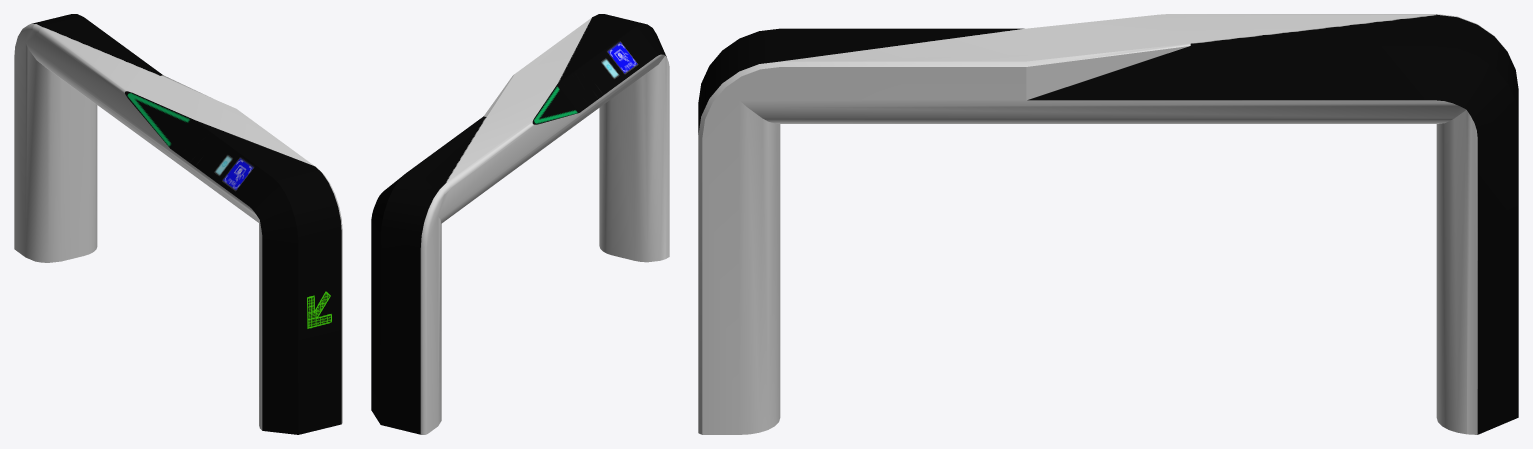
Rendered from 개찰구.fbx.
The picture shows the model from 3 angles, left to right: view 1: azimuth 30°, elevation 25°; view 2: azimuth 150°, elevation 25°; view 3: azimuth 270°, elevation 25°; orthographic projection. The views are drawn at different scales.
Visible parts, largest first — view 1: 개찰구스크린, 개찰구몸통; view 2: 개찰구몸통, 개찰구스크린; view 3: 개찰구몸통, 개찰구스크린.
Boxes of the visible parts, <box> form: 개찰구스크린: <box>31,14,341,434</box>; 개찰구몸통: <box>14,24,342,430</box>; 개찰구몸통: <box>420,17,669,434</box>; 개찰구스크린: <box>371,14,666,434</box>; 개찰구몸통: <box>698,14,1514,434</box>; 개찰구스크린: <box>698,14,1518,434</box>.
Size of the model in its own units: 300 by 1000 by 2000.
